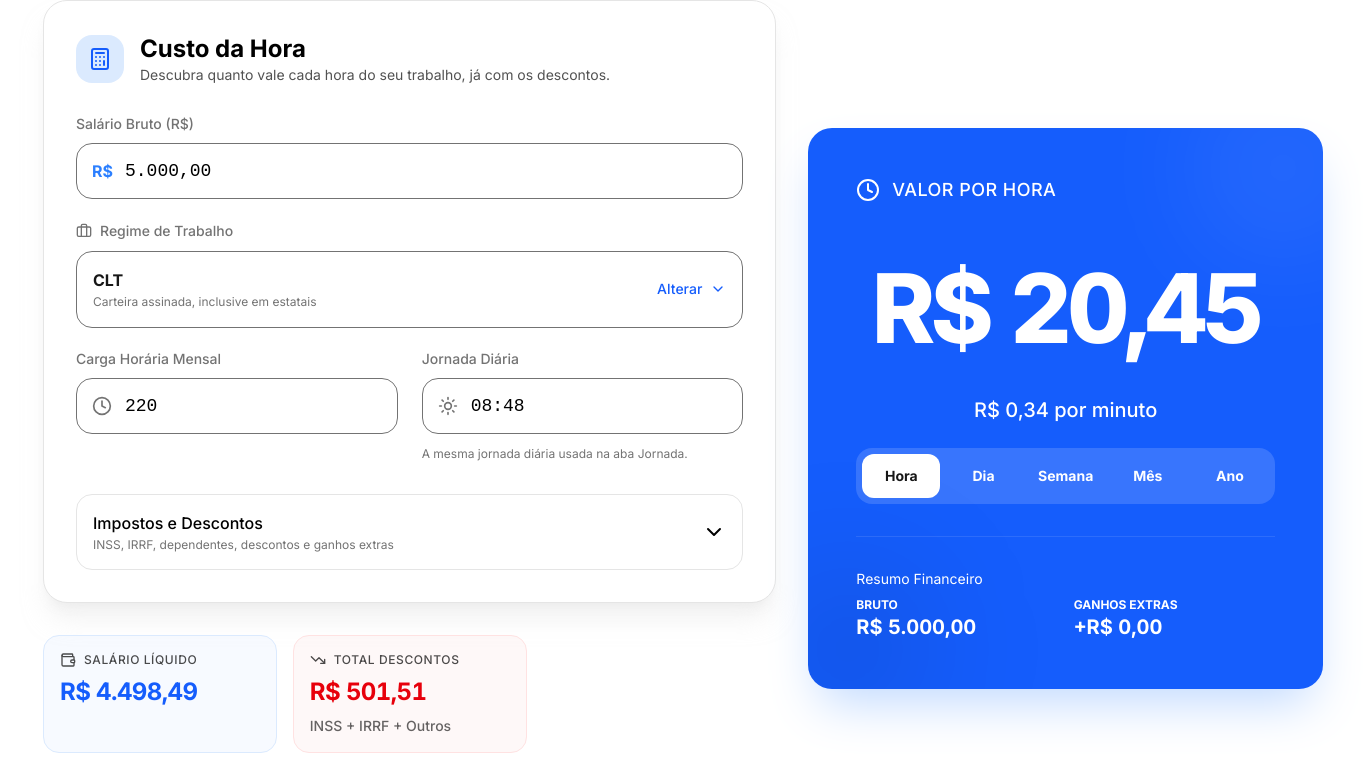
Test: SalaryCalculator › spells out the hourly rate once the headline shows another period
What coordinates should you click on to do the following:
click the radio button labelled "Mês"
I would click on:
 (1148, 476)
Its box is [1133,467,1162,484].
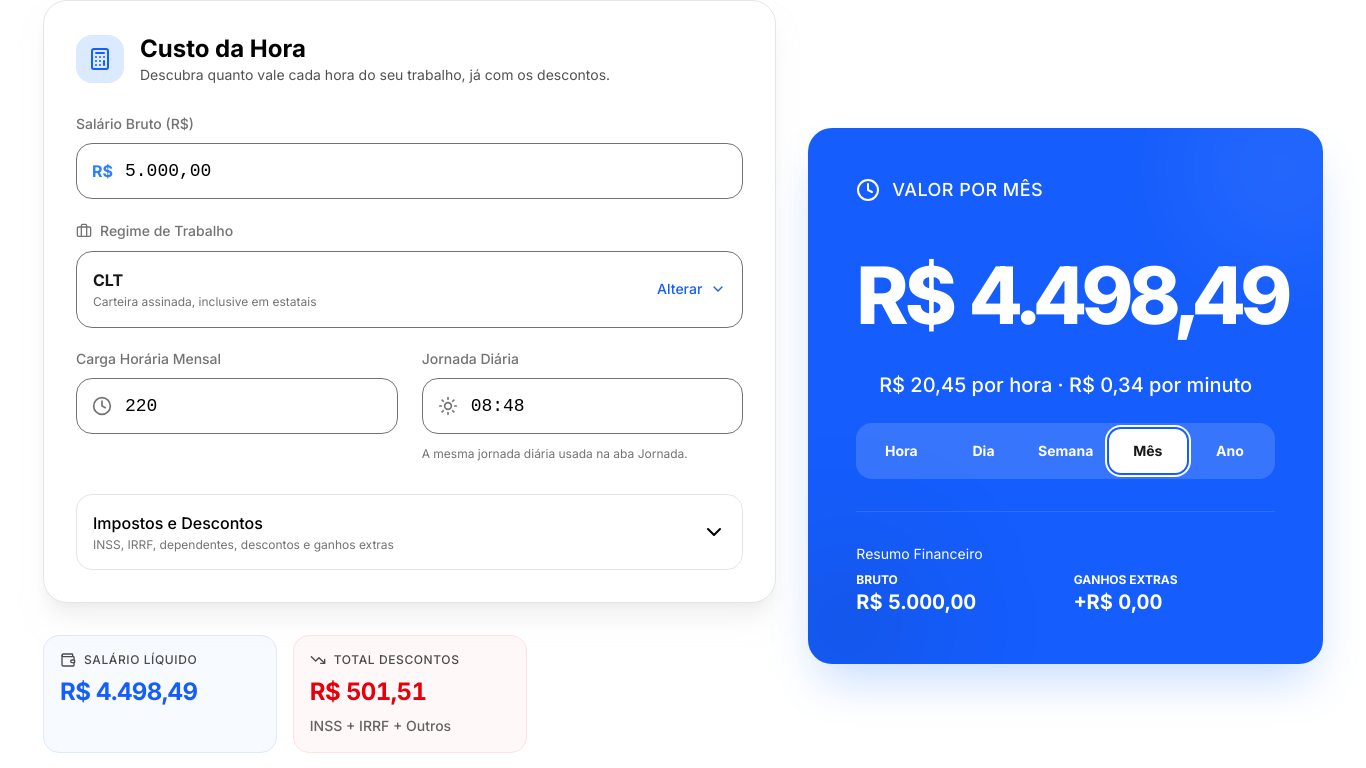
Check: the text "R$ 20,45 por hora · R$ 0,34 por minuto" is shown, box [856,371,1275,399]
